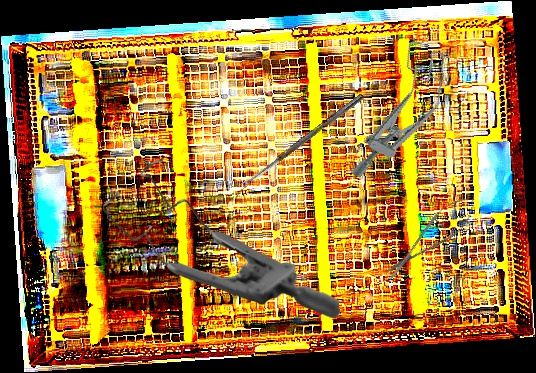Micro Scissor: (376, 186, 485, 289)
Speculum: (101, 151, 340, 327), (340, 35, 462, 195)
Surgical Spoon: (237, 92, 365, 191)
